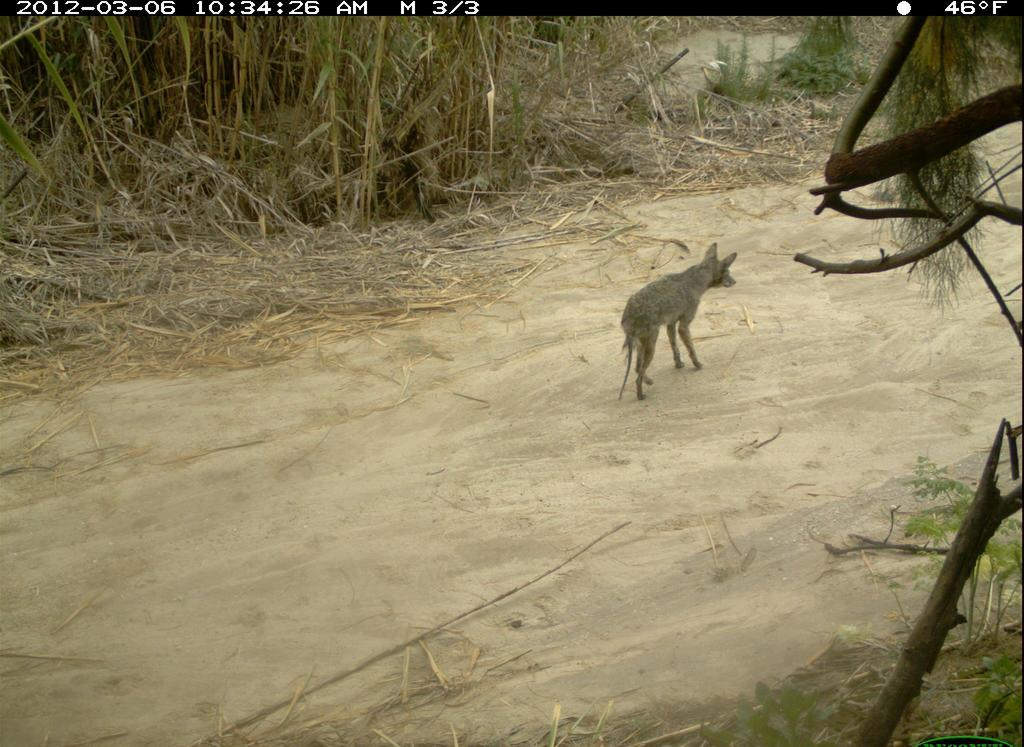coyote: (610, 235, 745, 410)
